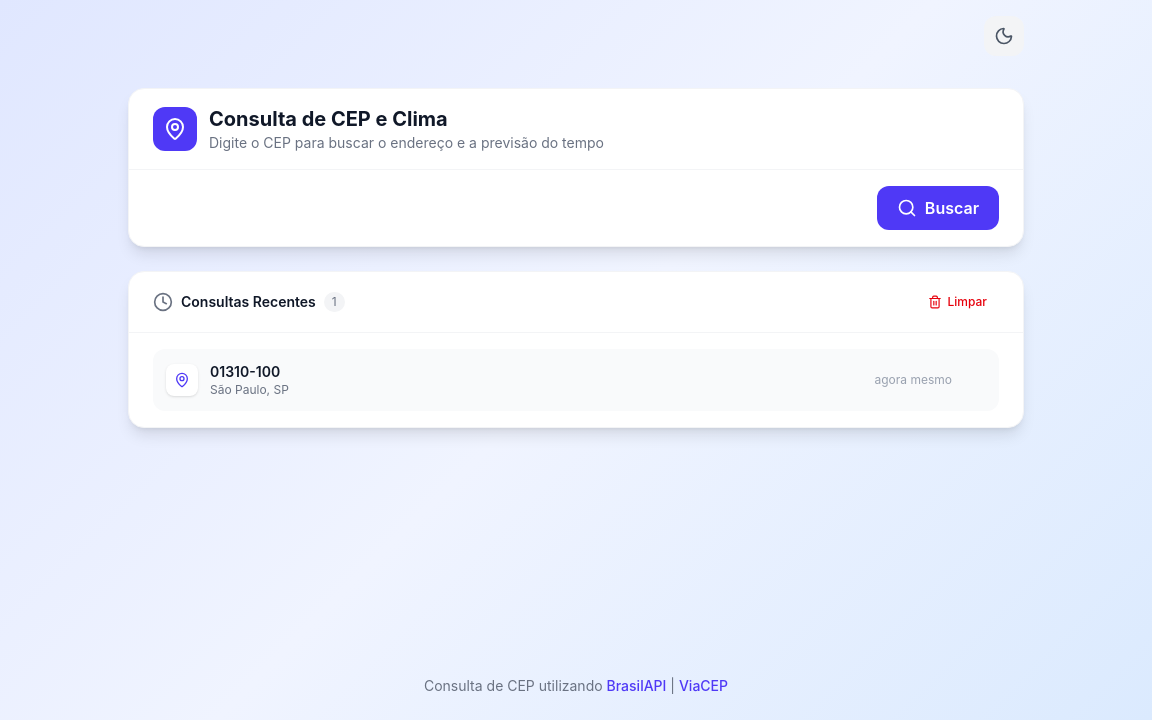
Scenario: CEP Flow Integration › should select CEP from history
Expected: the heading "Consultas Recentes" is shown, [181, 292, 316, 312]
Click the text "01310-100": click(576, 380) [153, 349, 999, 411]
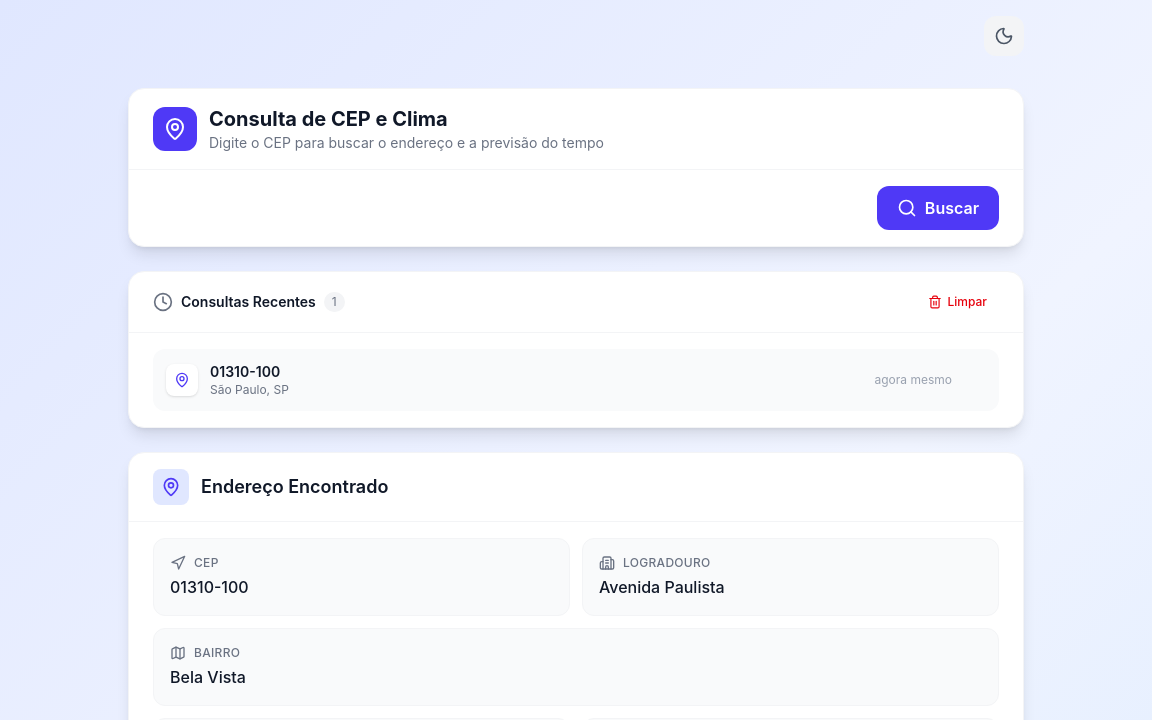
Expected: the heading "Endereço Encontrado" is shown, [201, 473, 388, 501]
